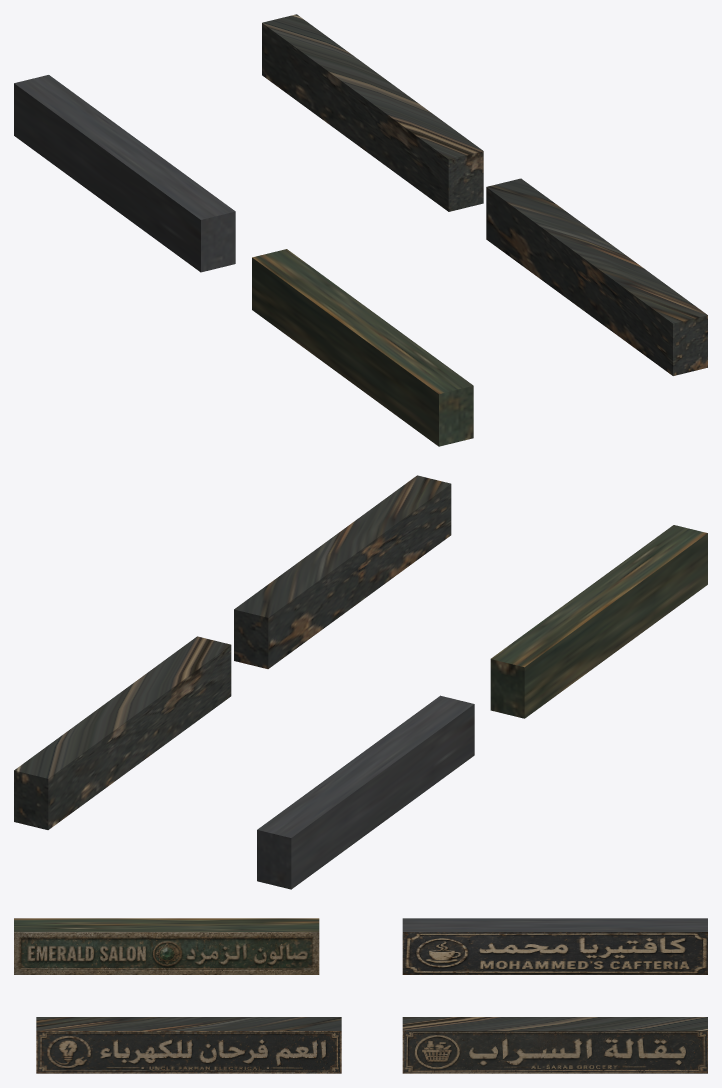
The model's file is Shop signs.fbx.
3 renders of one model, top to bottom at view 1: azimuth 30°, elevation 25°; view 2: azimuth 150°, elevation 25°; view 3: azimuth 270°, elevation 25°, orthographic. The views are drawn at different scales.
Parts seen in each view (by area): view 1: Cube, Cube.002, Cube.003, Cube.001; view 2: Cube.001, Cube.003, Cube, Cube.002; view 3: Cube, Cube.001, Cube.002, Cube.003.
Boxes of the visible parts, <box> form: Cube: <box>252,249,473,446</box>; Cube.002: <box>262,14,483,211</box>; Cube.003: <box>486,178,707,375</box>; Cube.001: <box>14,75,235,272</box>; Cube.001: <box>257,695,474,889</box>; Cube.003: <box>234,475,451,668</box>; Cube: <box>490,525,707,718</box>; Cube.002: <box>14,636,231,829</box>; Cube: <box>14,918,319,974</box>; Cube.001: <box>402,918,707,974</box>; Cube.002: <box>402,1017,707,1073</box>; Cube.003: <box>36,1017,341,1073</box>.
Bounding box in the file's own units: 351 × 62.22 × 913.
Materials: 4 (4 with a texture image).
